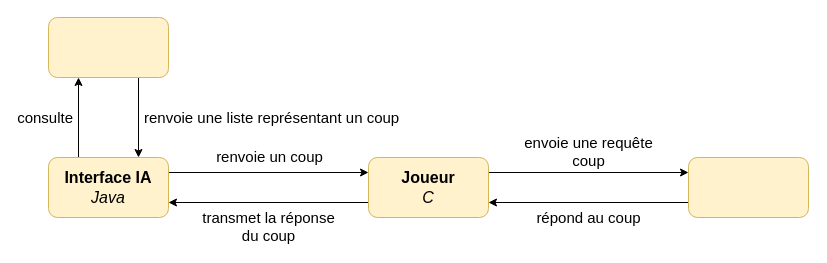
This 827x263 diagram has some shape labels left out. The shapes that lost their labels are listed below. From the top down, each one's centre as x and y in pixels, then its label:
At point 108,47: "IA Prolog".
At point 748,187: "Serveur C".
